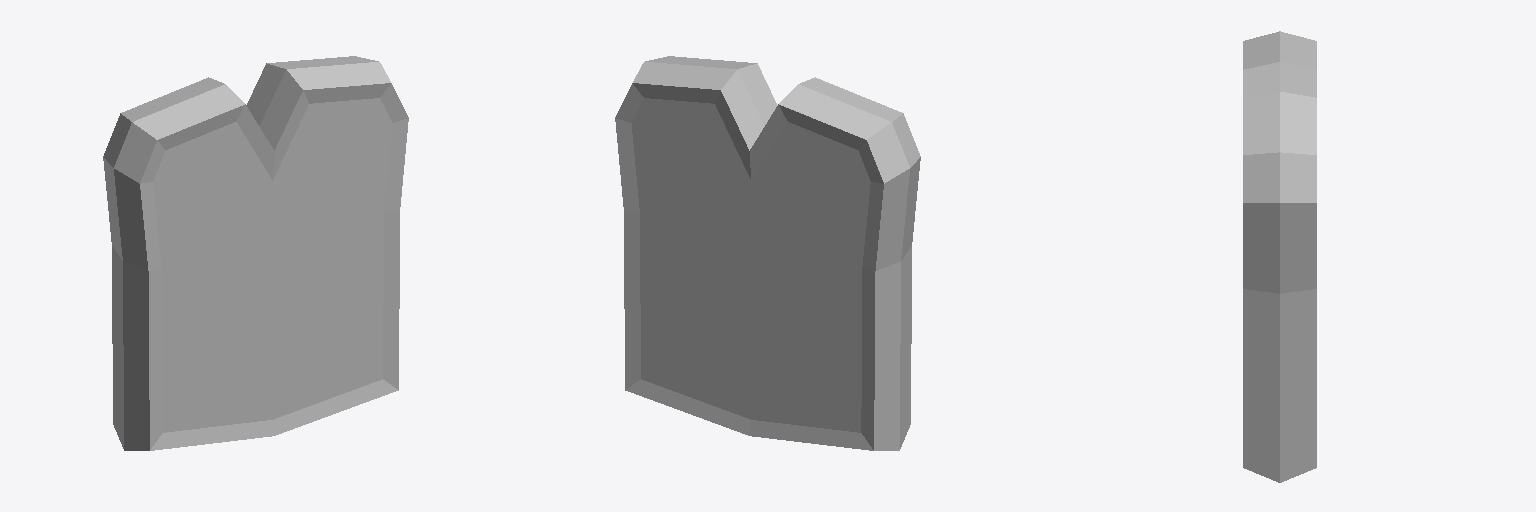
The model's file is Toast.OBJ.
3 views of the same model, side by side, from view 1: azimuth 30°, elevation 25°; view 2: azimuth 150°, elevation 25°; view 3: azimuth 270°, elevation 25° (orthographic).
Bounding box in the file's own units: 0.0878 × 0.1057 × 0.0197.